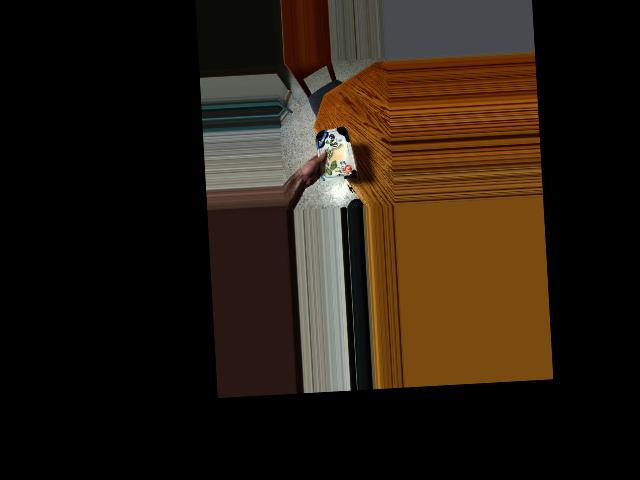cheese: (308, 127, 358, 181)
